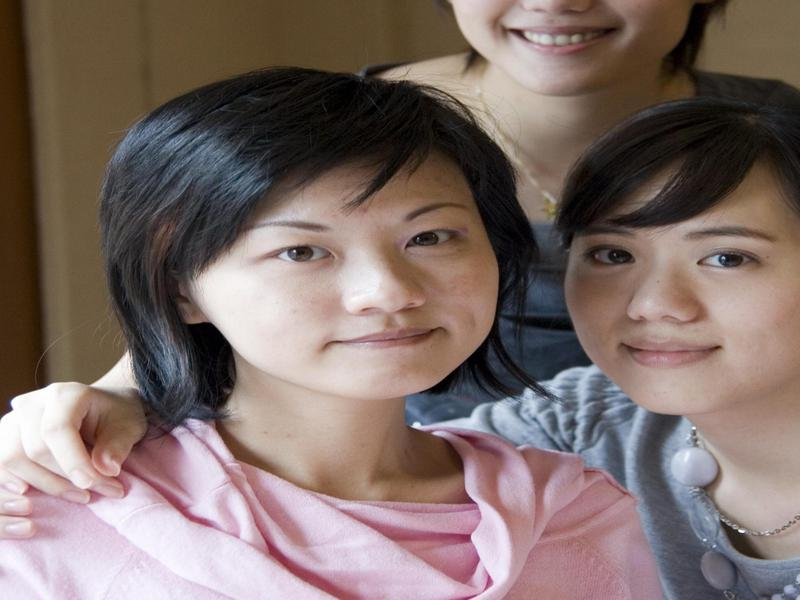person: (1, 65, 653, 600), (503, 90, 800, 600), (373, 1, 738, 119)
